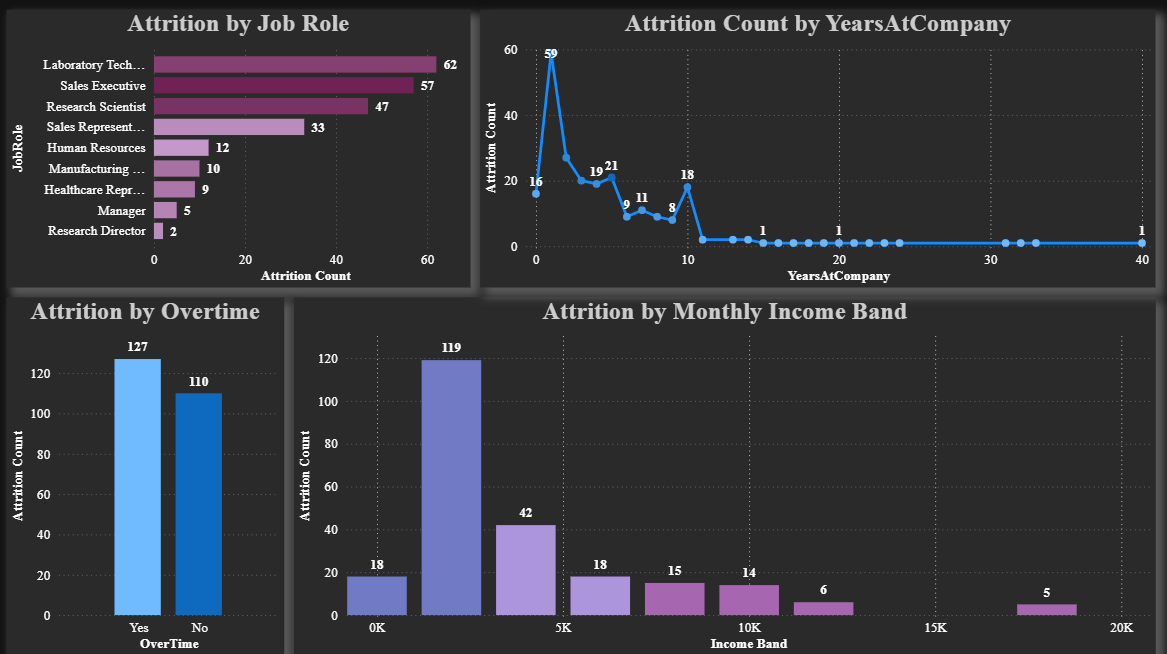

Layout of this report page (visuals, bound fields, positions):
{"tool":"powerbi","page":{"name":"Attrition Drivers","canvas":[1280,720],"ordinal":1},"visuals":[{"type":"clusteredBarChart","title":"Attrition by Job Role","fields":{"Y":["hr_attrition.Attrition Count"],"Category":["hr_attrition.JobRole"]},"box":[13.5,14.9,506.1,303.1],"z":0},{"type":"clusteredColumnChart","title":"Attrition by Overtime","fields":{"Category":["hr_attrition.OverTime"],"Y":["hr_attrition.Attrition Count"]},"box":[13.5,328.8,303.1,391],"z":1000},{"type":"clusteredColumnChart","title":"Attrition by Monthly Income Band","fields":{"Y":["hr_attrition.Attrition Count"],"Category":["hr_attrition.Income Band"]},"box":[327.4,328.8,940.4,391],"z":2000},{"type":"lineChart","fields":{"Y":["hr_attrition.Attrition Count"],"Category":["hr_attrition.YearsAtCompany"]},"box":[530.4,14.9,737.4,303.1],"z":3000}]}

Visuals, with their boxes in screenshot pixels (x1, y1, x2, y2), scaled from the page's 1280x720 canvas onto the 1167x654 screenshot:
"Attrition by Job Role" clusteredBarChart: 12 14 474 289
"Attrition by Overtime" clusteredColumnChart: 12 299 289 653
"Attrition by Monthly Income Band" clusteredColumnChart: 298 299 1156 653
lineChart - hr_attrition.Attrition Count x hr_attrition.YearsAtCompany: 484 14 1156 289
